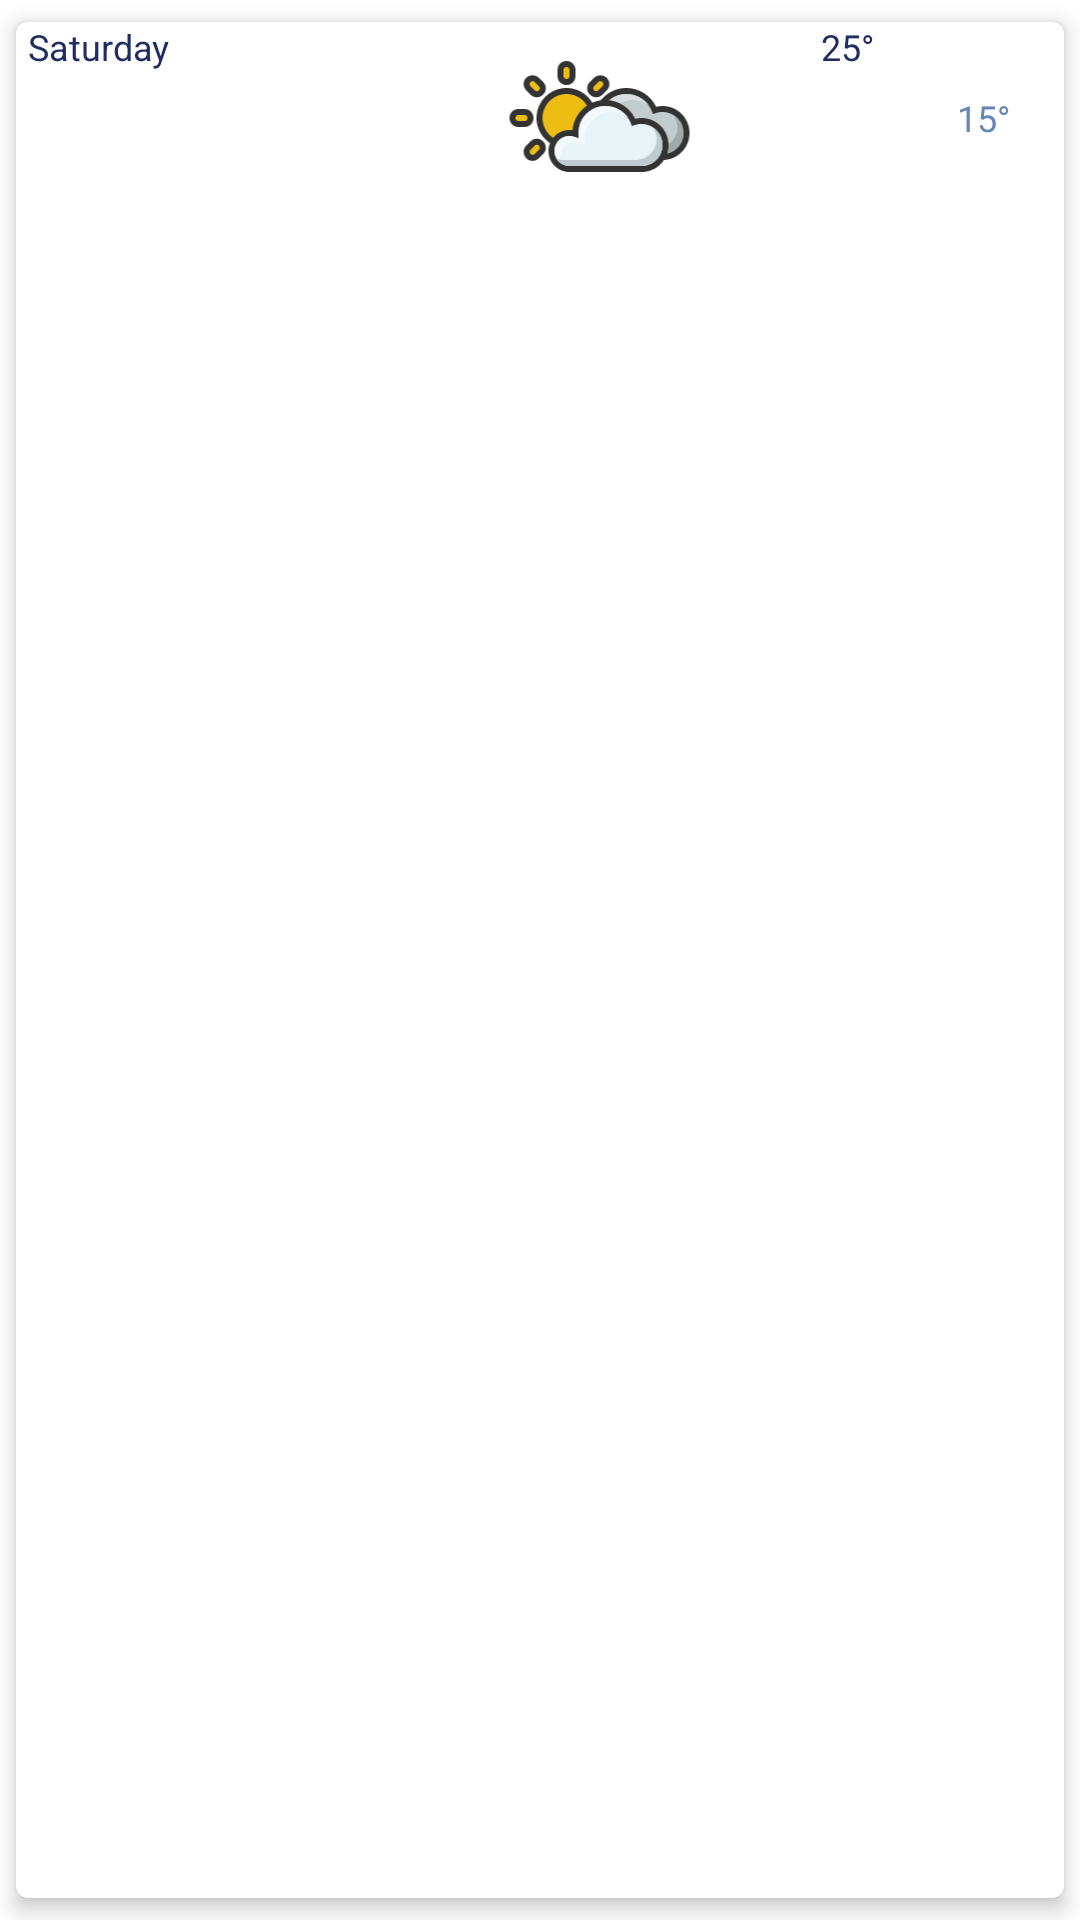

Icon bounding boxes for this 1080px×1920px phone screenshot, format region(x1, y1, x2, y2):
cloudy: region(509, 61, 690, 172)
